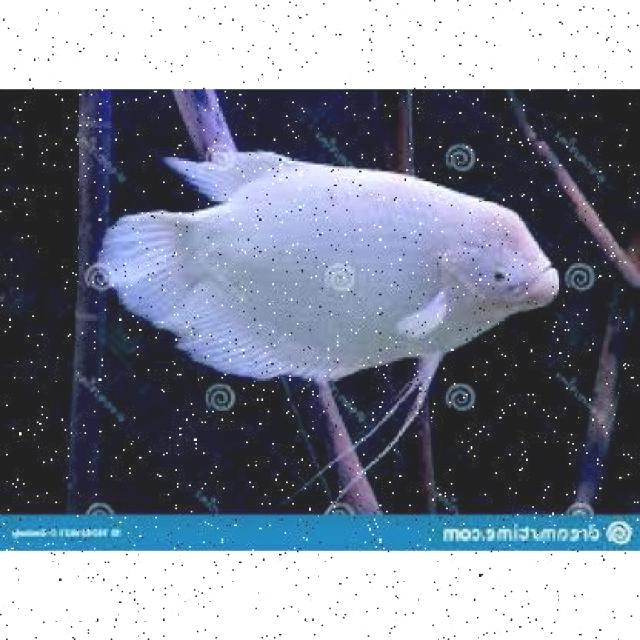gurame: (100, 152, 558, 386)
